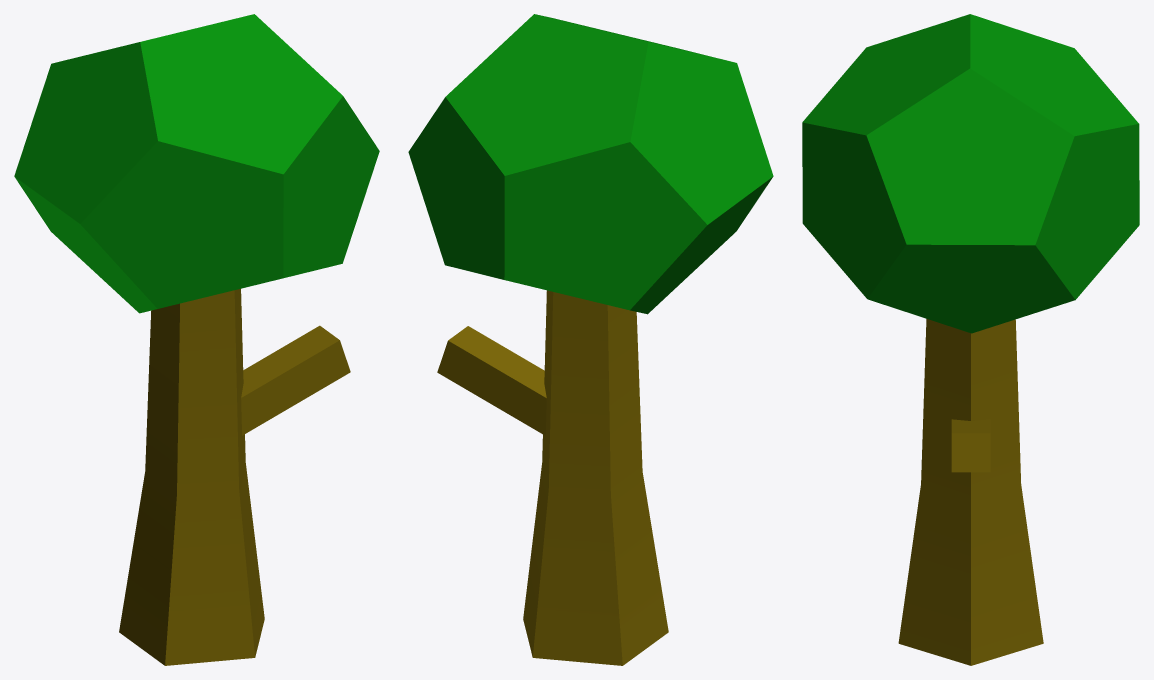
Rendered from Tree1.fbx.
3 views of the same model, side by side, from view 1: azimuth 30°, elevation 25°; view 2: azimuth 150°, elevation 25°; view 3: azimuth 270°, elevation 25° (orthographic). The views are drawn at different scales.
Visible parts, largest first — view 1: Tree1; view 2: Tree1; view 3: Tree1.
Boxes of the visible parts, x1,y1,x2,y2 form: Tree1: (14, 14, 379, 665); Tree1: (408, 14, 773, 665); Tree1: (802, 14, 1139, 665).
Size of the model in its own units: 2.99 by 5.8 by 2.99.
Materials: 1 (1 with a texture image).
